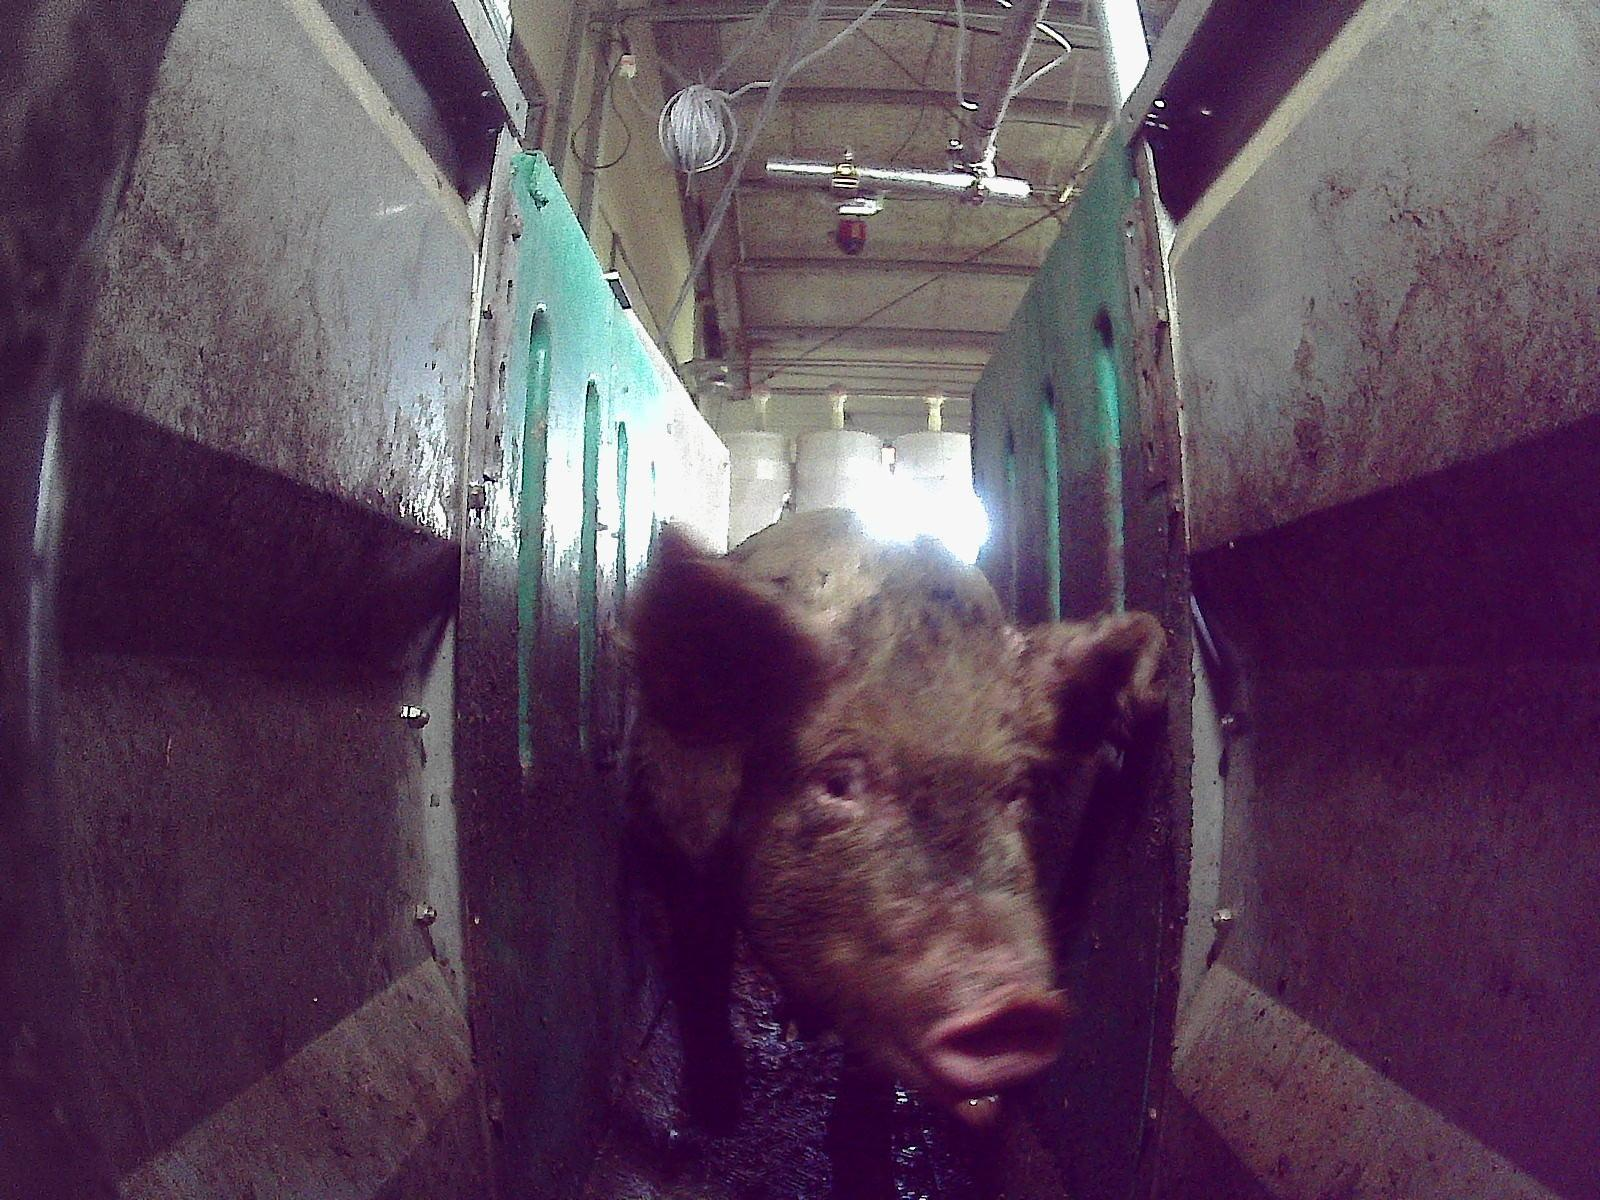Face: (726, 629, 1073, 1127)
